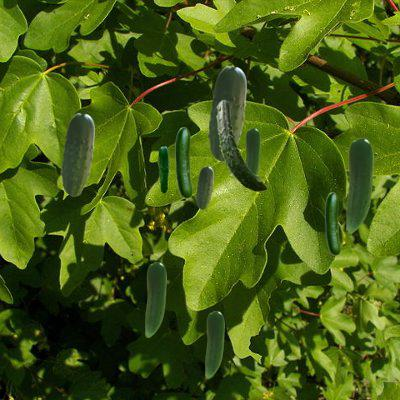cucumber: (216, 100, 266, 190), (208, 66, 245, 160), (61, 113, 93, 195), (346, 138, 372, 232), (145, 262, 165, 336), (205, 311, 223, 377), (175, 127, 191, 197), (325, 192, 339, 254), (196, 166, 212, 208), (245, 128, 259, 174), (158, 146, 168, 192)
